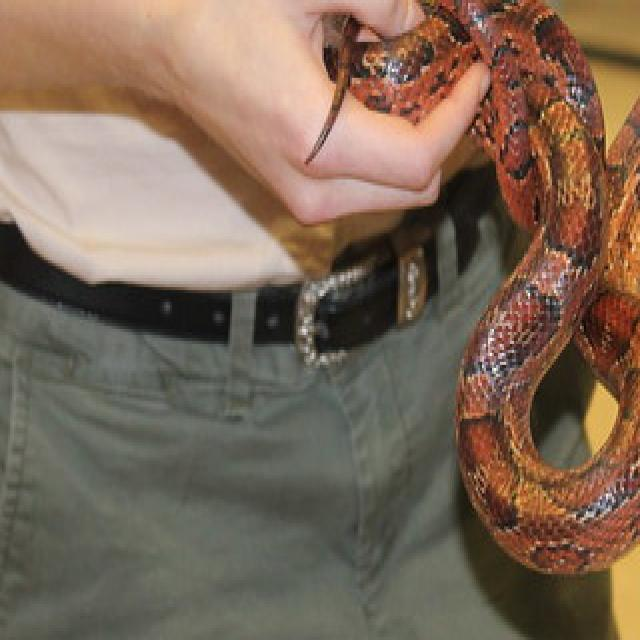Snake: (302, 0, 640, 577)
